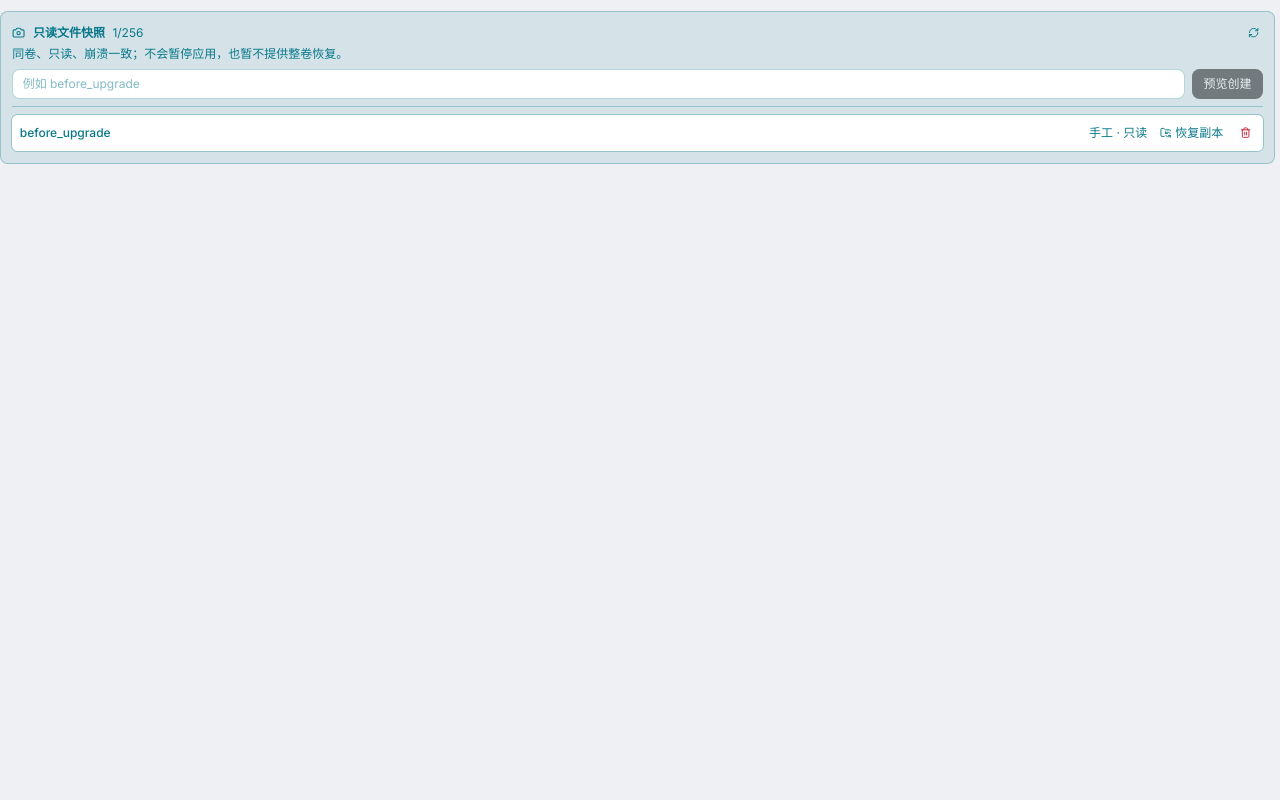
Scenario: BtrfsSnapshotPanel › previews recovery as a new share without replacing the source
Expected: the text "before_upgrade" is shown, [20,125,111,140]
Click the button with aria-label "从快照 before_upgrade 创建恢复副本": (1192,133) [1155,120,1229,146]
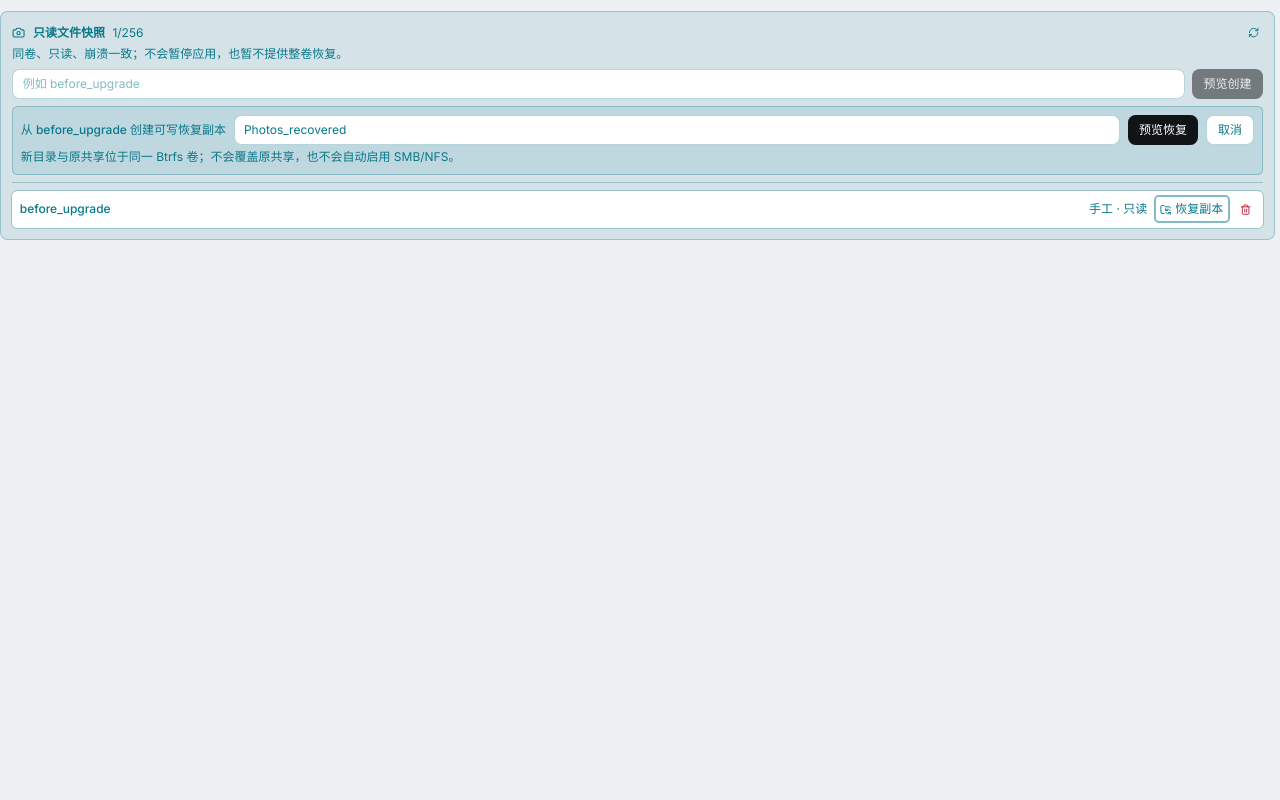
Click the button "预览恢复": (1163,130) [1128,114,1198,144]
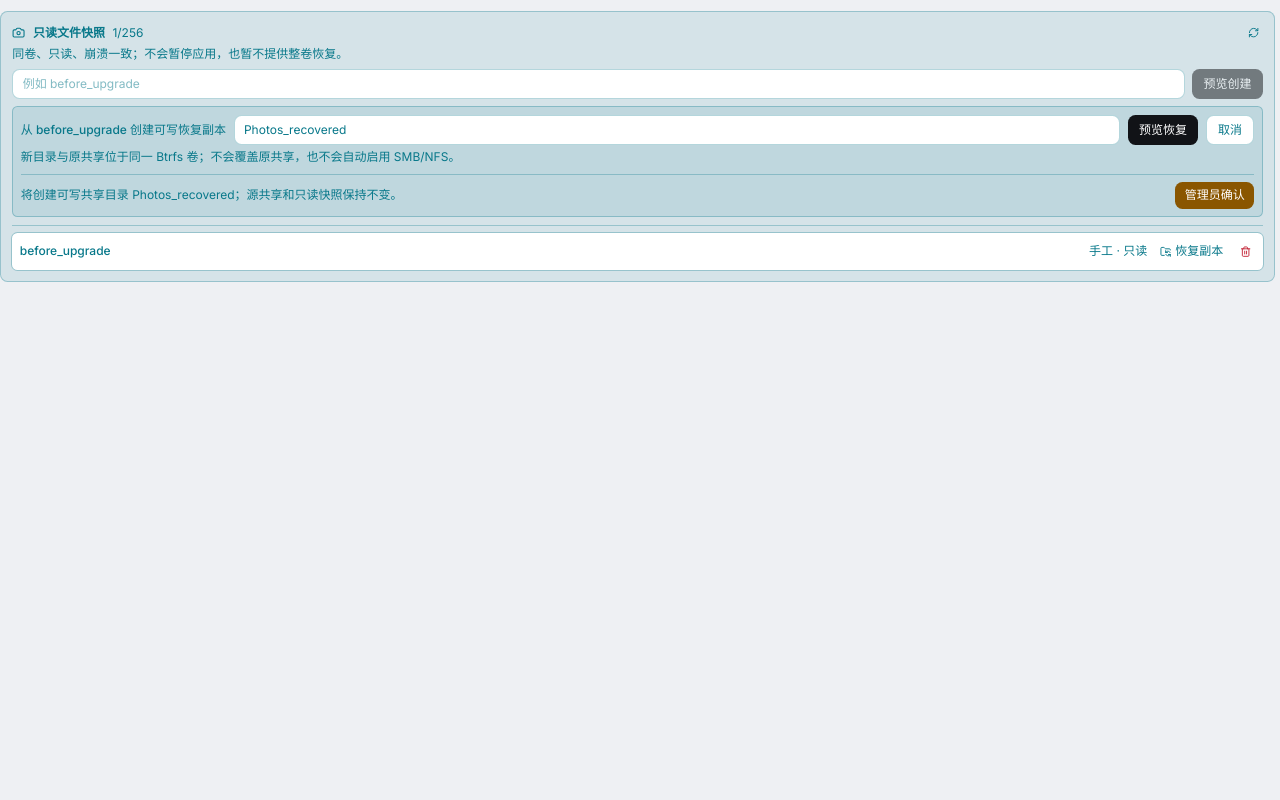
Expected: the text "将创建可写共享目录 Photos_recovered；源共享和只读快照保持不变。" is shown, [21,186,403,204]
Click the button "管理员确认": (1215,195) [1176,182,1254,209]
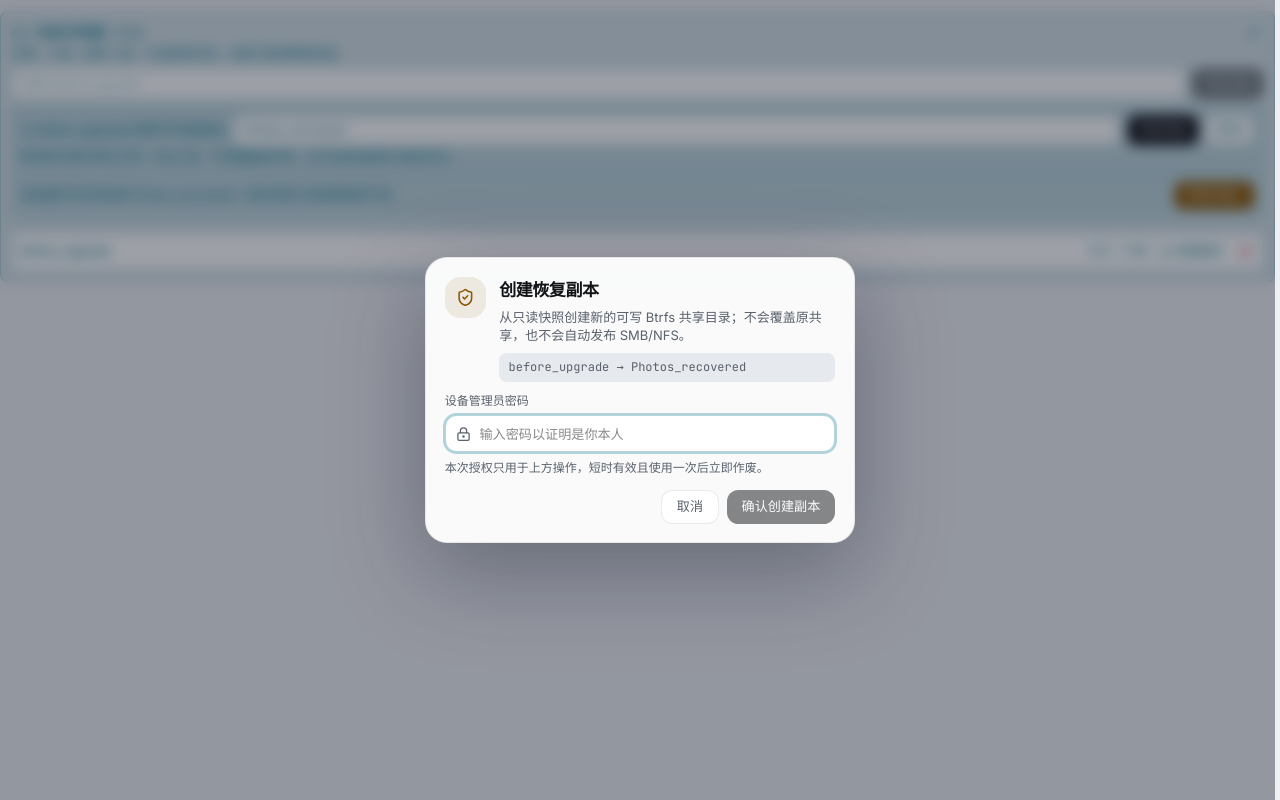
Expected: the dialog is shown, [425,257,855,543]
